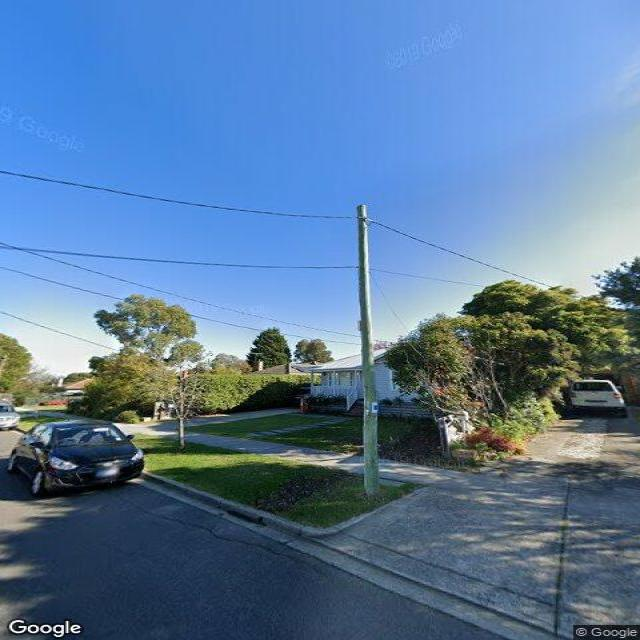timber-pole: (354, 204, 383, 501)
